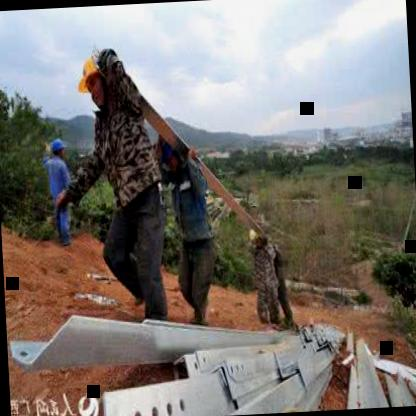helmet: (78, 52, 107, 106), (51, 134, 66, 160)
